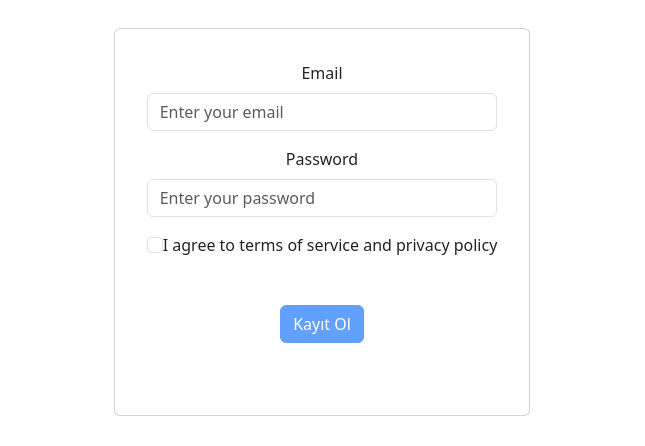
Test: Login Page › Error Messages › password input throws error for invalid password
Type "1234" into the password field with test id "password-input".
click(323, 198); type("1234")  # box [147, 179, 498, 217]
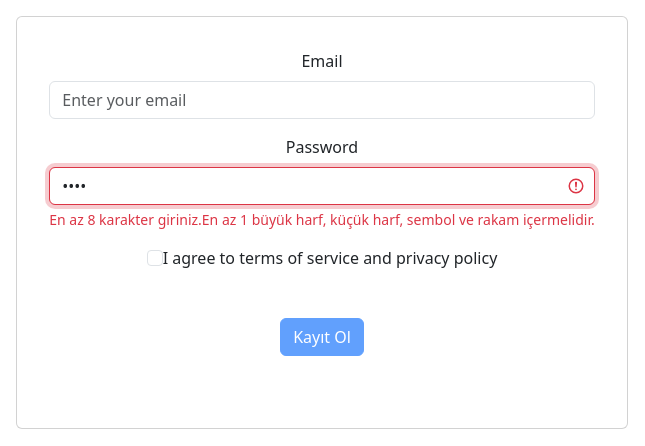
Expected: the text " En az 8 karakter giriniz.En az 1 büyük harf, küçük harf, sembol ve rakam içermelidir." is shown, [49, 209, 594, 230]
